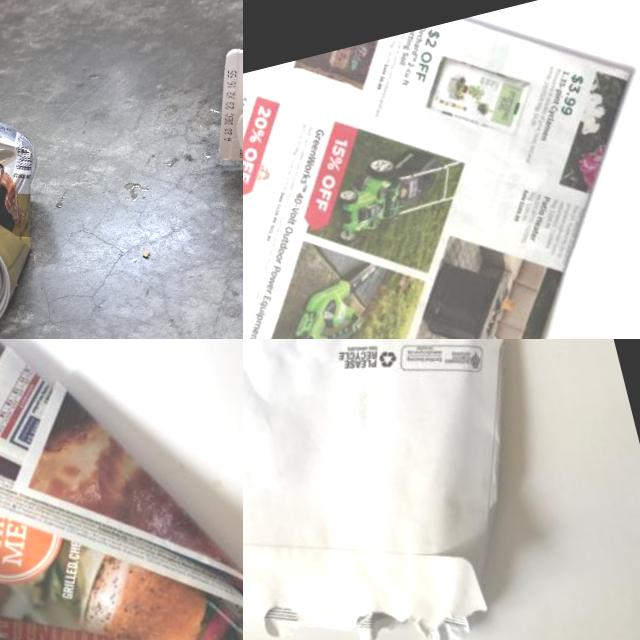caixinha: (190, 9, 243, 235)
lata: (0, 105, 75, 339)
papel: (243, 0, 640, 339), (243, 339, 569, 640), (0, 339, 243, 640)
tampa plástica: (229, 101, 243, 172)
